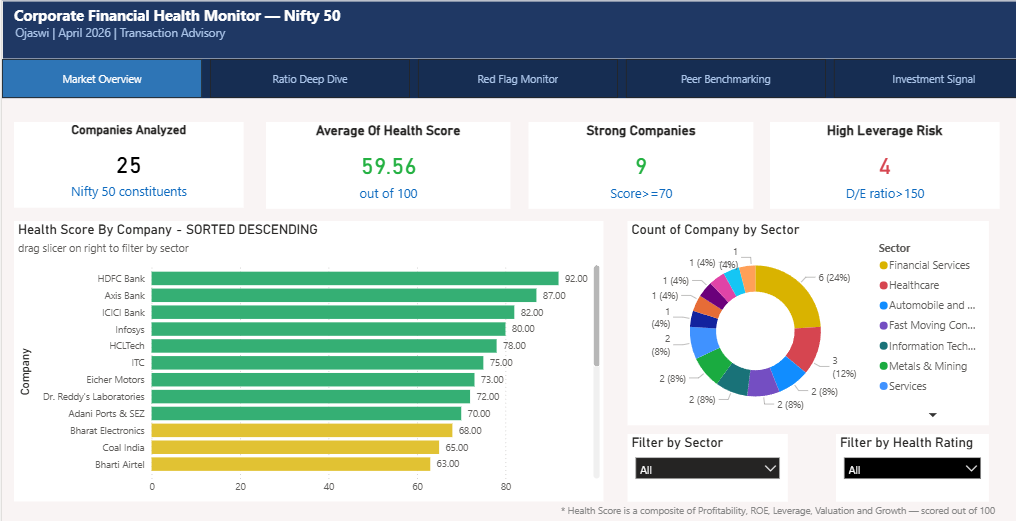

This screenshot's page, from the dashboard's own definition file:
{"tool":"powerbi","page":{"name":"Market Overview","canvas":[1280,720],"ordinal":0},"visuals":[{"type":"card","title":"Companies Analyzed","fields":{"Values":["CountNonNull(clean_financial_data (1).Company)"]},"box":[15.1,162.5,289.1,107.7],"z":0},{"type":"card","title":"Average Of Health Score","fields":{"Values":["Avg(clean_financial_data (1).Health_Score)"]},"box":[332.6,162.5,308,109.6],"z":1000},{"type":"card","title":"Strong Companies","fields":{"Values":["CountNonNull(clean_financial_data (1).Company)"]},"box":[665.2,162.5,283.5,109.6],"z":2000},{"type":"card","title":"High Leverage Risk","fields":{"Values":["CountNonNull(clean_financial_data (1).Company)"]},"box":[973.2,162.5,289.1,109.6],"z":3000},{"type":"barChart","title":"Health Score By Company - SORTED DESCENDING","fields":{"Category":["clean_financial_data (1).Company"],"Y":["Avg(clean_financial_data (1).Health_Score)"]},"box":[15.1,300.5,742.7,393.1],"z":4000},{"type":"donutChart","fields":{"Category":["clean_financial_data (1).Sector"],"Y":["CountNonNull(clean_financial_data (1).Company)"]},"box":[788,300.5,455.4,296.7],"z":5000},{"type":"slicer","title":"Filter by Sector","fields":{"Values":["clean_financial_data (1).Sector"]},"box":[788,608.5,202.2,85],"z":6000},{"type":"slicer","title":"Filter by Health Rating","fields":{"Values":["clean_financial_data (1).Health_Rating"]},"box":[1050.7,608.5,192.8,85],"z":7000},{"type":"textbox","box":[0,0,1300.2,73.7],"z":8000},{"type":"pageNavigator","box":[0,73.7,1300.2,49.1],"z":10000},{"type":"textbox","box":[699.2,689.8,580.2,30.2],"z":11000}]}

Visuals, with their boxes on the page's 1280x720 design canvas (x1, y1, x2, y2). These are canvas units, not pixel positions in the 1016x521 screenshot, which may show the page scaled, cropped or inside an application window:
"Companies Analyzed" card: 15 162 304 270
"Average Of Health Score" card: 333 162 641 272
"Strong Companies" card: 665 162 949 272
"High Leverage Risk" card: 973 162 1262 272
"Health Score By Company - SORTED DESCENDING" barChart: 15 300 758 694
donutChart - clean_financial_data (1).Sector x CountNonNull(clean_financial_data (1).Company): 788 300 1243 597
"Filter by Sector" slicer: 788 608 990 694
"Filter by Health Rating" slicer: 1051 608 1244 694
textbox: 0 0 1300 74
pageNavigator: 0 74 1300 123
textbox: 699 690 1279 720
